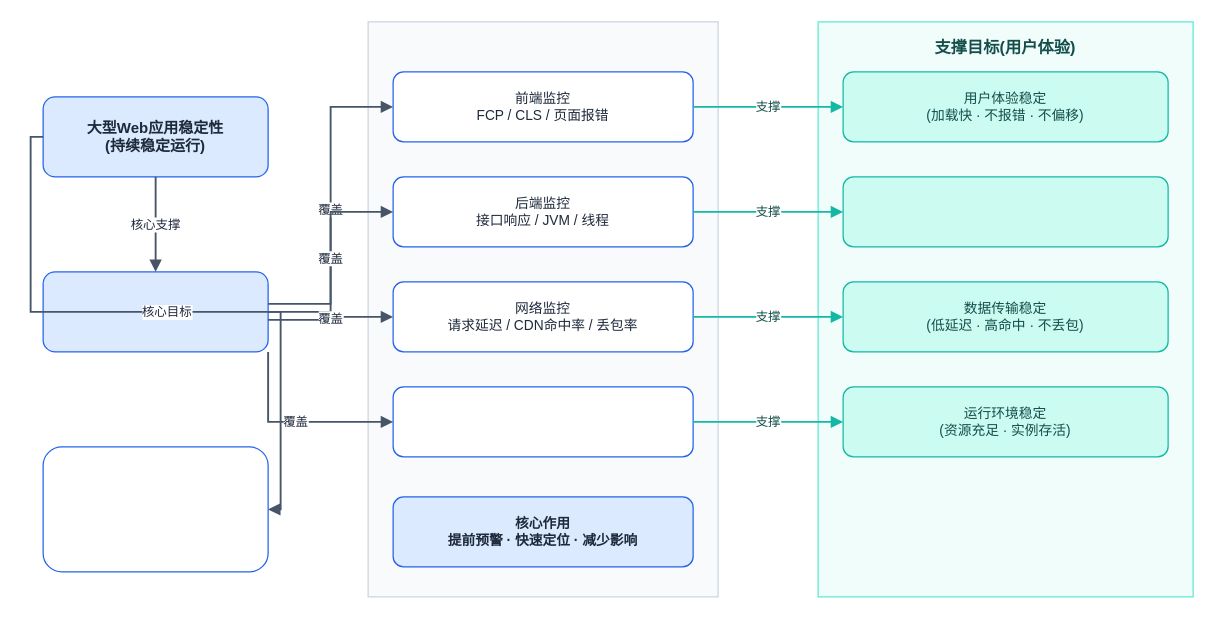
This 1216x619 diagram has some shape labels left out. Here are the shapes that lost their labels. From the top down, the box of each, then its label:
(842, 176, 1168, 247): 业务逻辑稳定 (接口正常 · 数据准确)
(42, 271, 268, 352): 异常监控体系 (稳定性生命线)
(367, 21, 718, 597): 覆盖层面(四类监控)
(392, 386, 693, 457): 服务器监控 CPU / 内存 / 实例可用性
(42, 446, 268, 572): 核心目标 零重大宕机 低异常率 快故障恢复
